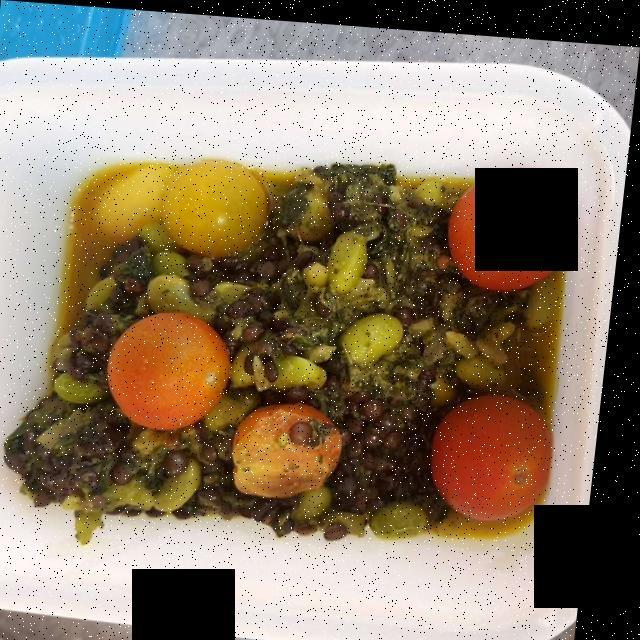milk: (64, 155, 180, 354)
tomato: (113, 139, 586, 511)
